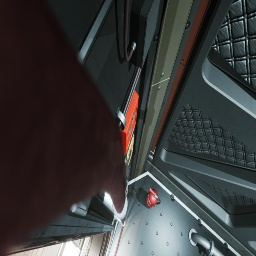EmergencyPhone ,: (124, 133, 134, 182)
FireAlarm ,: (121, 90, 139, 154)
FireExtinguisher ]: (145, 188, 161, 209)
